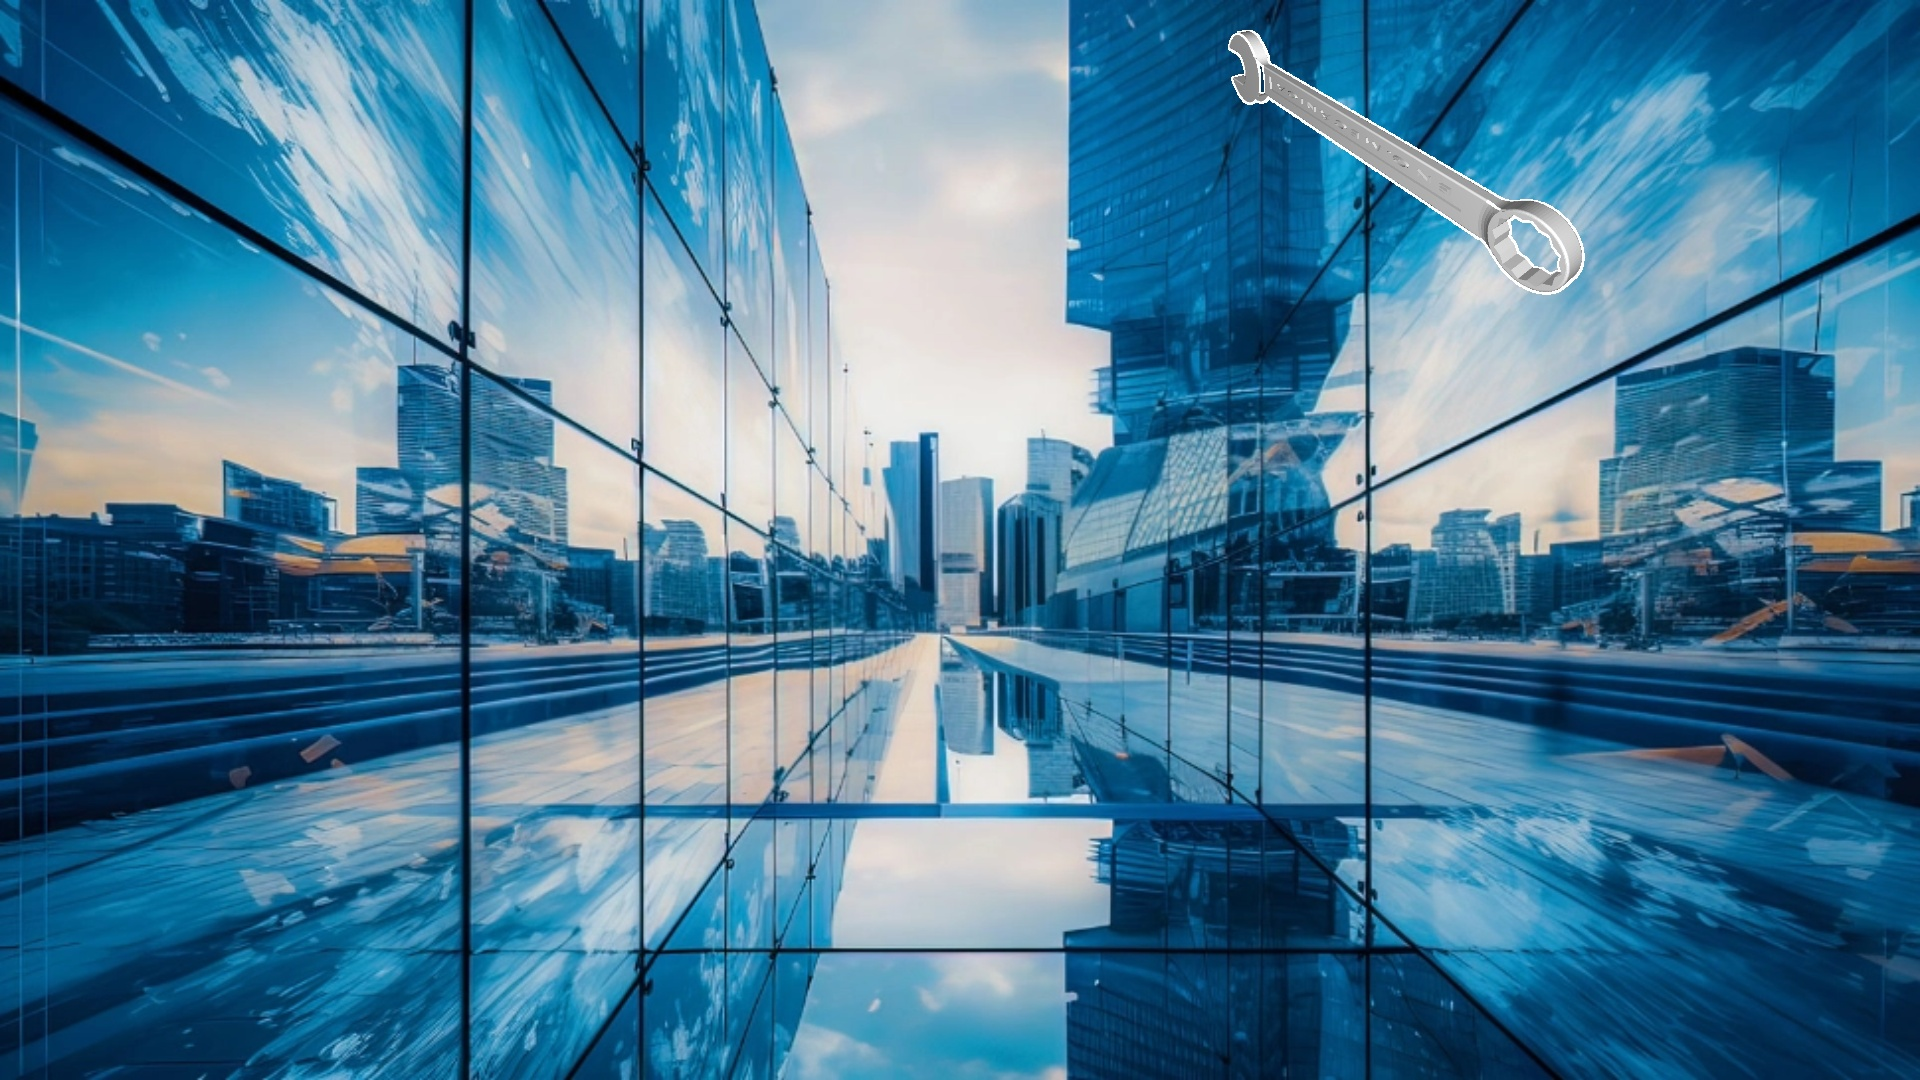Mixed Key: (1228, 30, 1584, 294)
